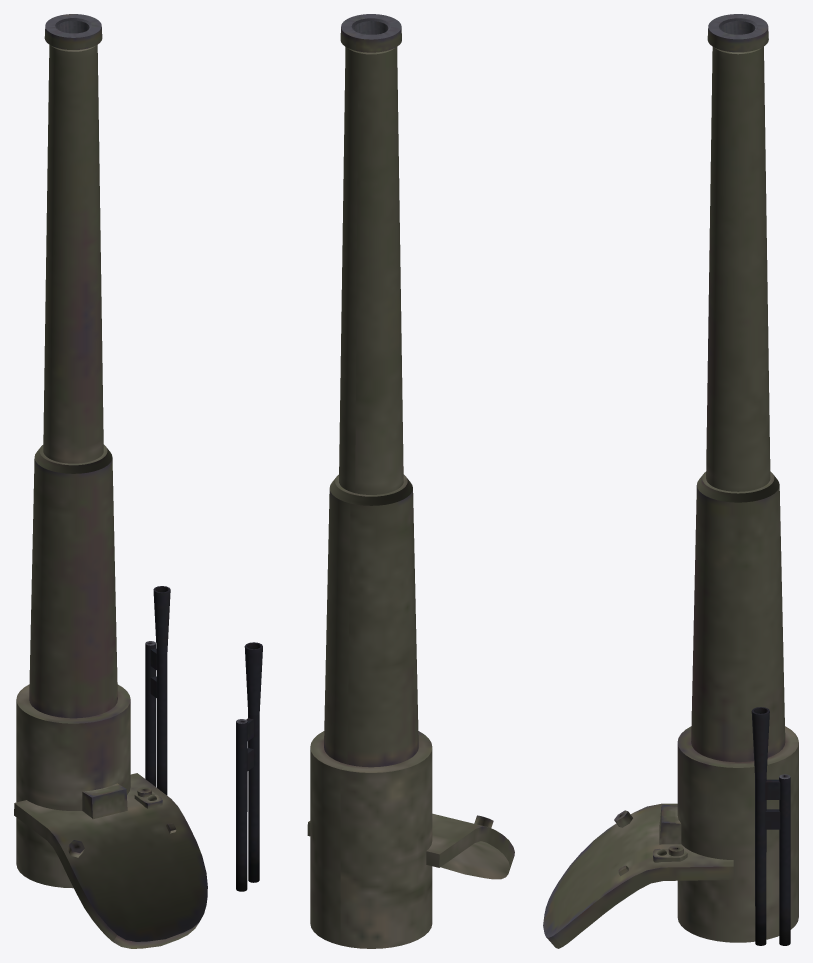
The model's file is Gun_01.glb.
3 views of the same model, side by side, from view 1: azimuth 30°, elevation 25°; view 2: azimuth 150°, elevation 25°; view 3: azimuth 270°, elevation 25° (orthographic). The views are drawn at different scales.
Parts seen in each view (by area): view 1: set_0_group_0; view 2: set_0_group_0; view 3: set_0_group_0.
Part boxes in pixels (bbox=[...]): set_0_group_0: bbox=[14, 14, 207, 948]; set_0_group_0: bbox=[236, 14, 514, 948]; set_0_group_0: bbox=[543, 14, 798, 948].
Bounding box in the file's own units: 0.2747 × 1.34 × 0.3408.
1 material, 1 textured.
